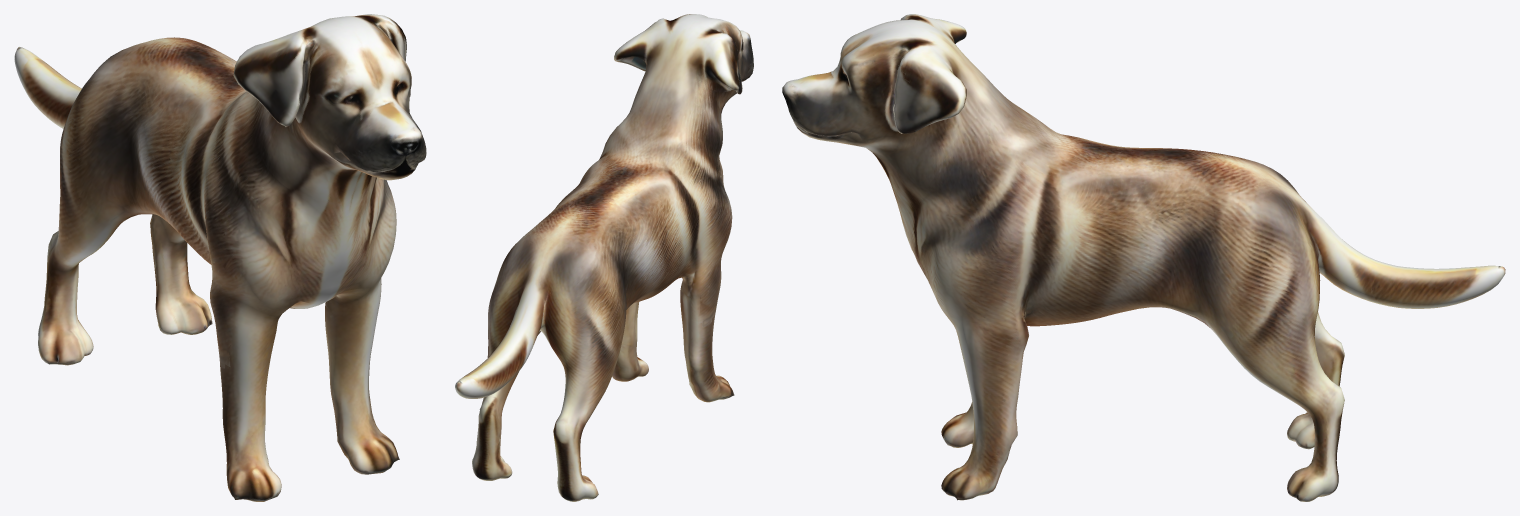
Rendered from Dog.fbx.
3 renders of one model, left to right at view 1: azimuth 30°, elevation 25°; view 2: azimuth 150°, elevation 25°; view 3: azimuth 270°, elevation 25°, orthographic. The views are drawn at different scales.
Visible parts, largest first — view 1: Mesh1_Mesh1.012; view 2: Mesh1_Mesh1.012; view 3: Mesh1_Mesh1.012.
Boxes of the visible parts, x1,y1,x2,y2 form: Mesh1_Mesh1.012: (14, 14, 426, 501); Mesh1_Mesh1.012: (455, 14, 753, 501); Mesh1_Mesh1.012: (782, 14, 1505, 501).
Bounding box in the file's own units: 49.48 × 134 × 200.
1 material, 1 textured.
